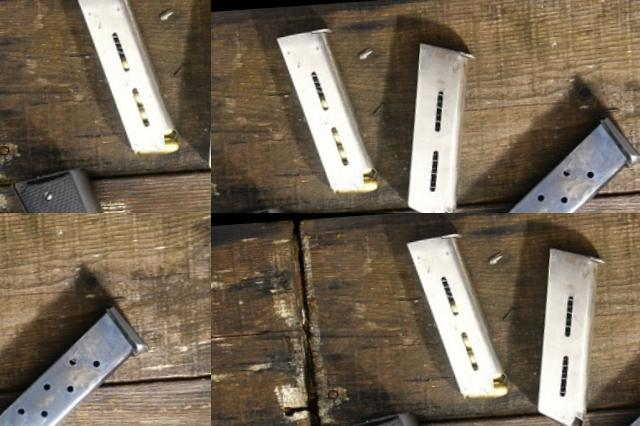handgun: (0, 0, 211, 213), (211, 0, 460, 152), (0, 298, 50, 365)
